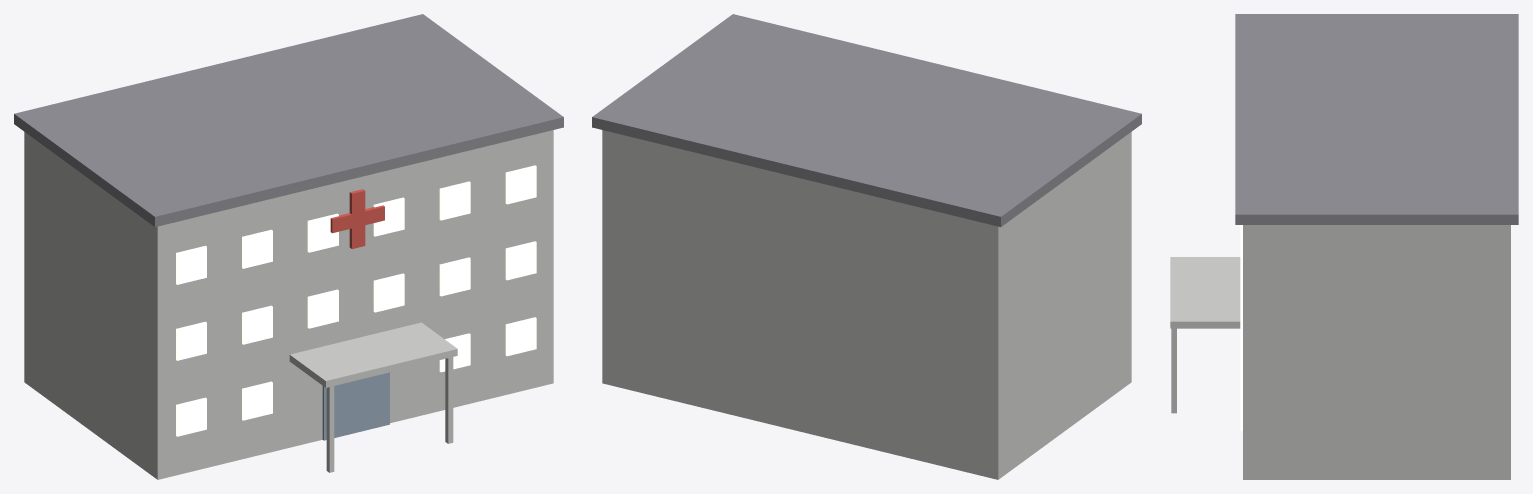
Rendered from hospital.glb.
The picture shows the model from 3 angles, left to right: view 1: azimuth 30°, elevation 25°; view 2: azimuth 150°, elevation 25°; view 3: azimuth 270°, elevation 25°; orthographic projection.
Visible parts, largest first — view 1: hospital; view 2: hospital; view 3: hospital.
Part boxes in pixels (left/top/right/bottom): hospital: left=14, top=14, right=563, bottom=479; hospital: left=592, top=14, right=1141, bottom=479; hospital: left=1170, top=14, right=1518, bottom=479.
Size of the model in its own units: 12.4 by 7.75 by 9.1.
